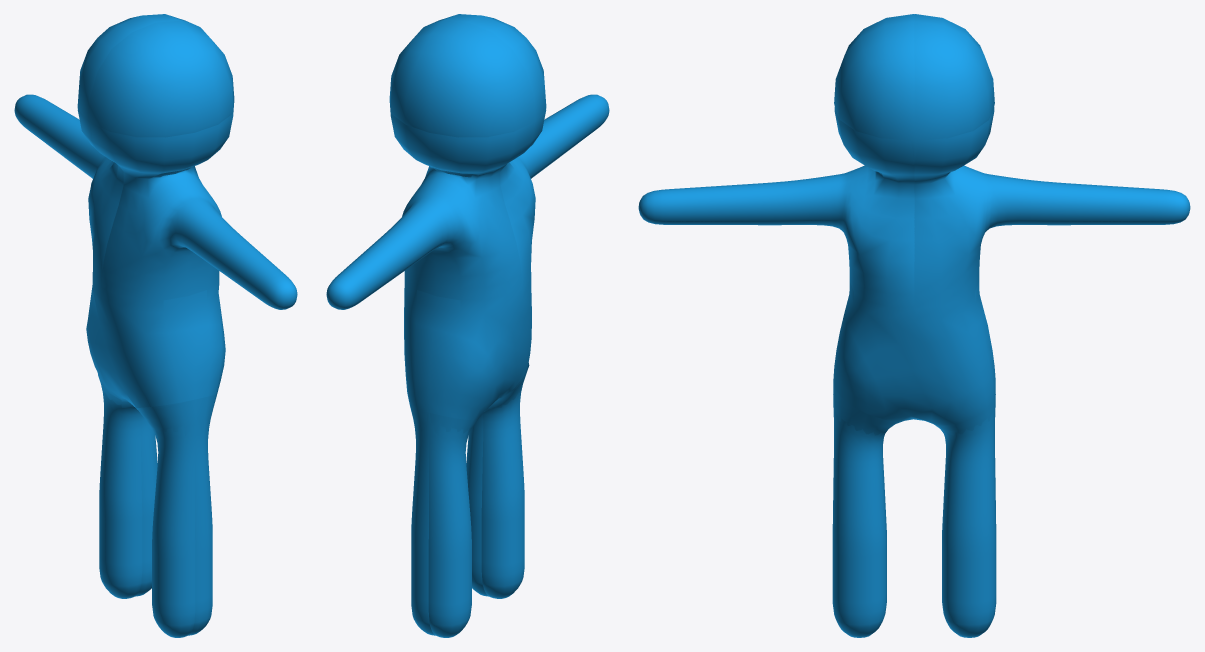
The model's file is character (1).fbx.
3 views of the same model, side by side, from view 1: azimuth 30°, elevation 25°; view 2: azimuth 150°, elevation 25°; view 3: azimuth 270°, elevation 25° (orthographic). The views are drawn at different scales.
Parts seen in each view (by area): view 1: Vert.003; view 2: Vert.003; view 3: Vert.003.
Boxes of the visible parts, <box> form: Vert.003: <box>14,14,297,637</box>; Vert.003: <box>326,14,609,637</box>; Vert.003: <box>638,14,1190,637</box>.
Bounding box in the file's own units: 151 × 631 × 519.
